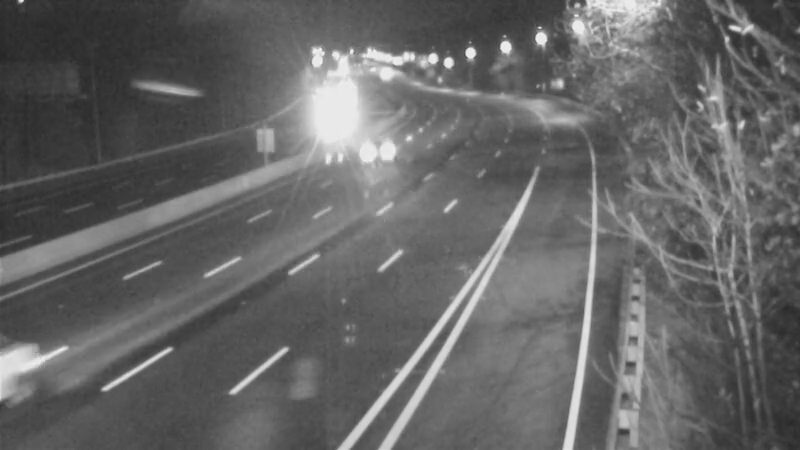vehicle: (339, 111, 419, 191), (304, 98, 354, 148)
